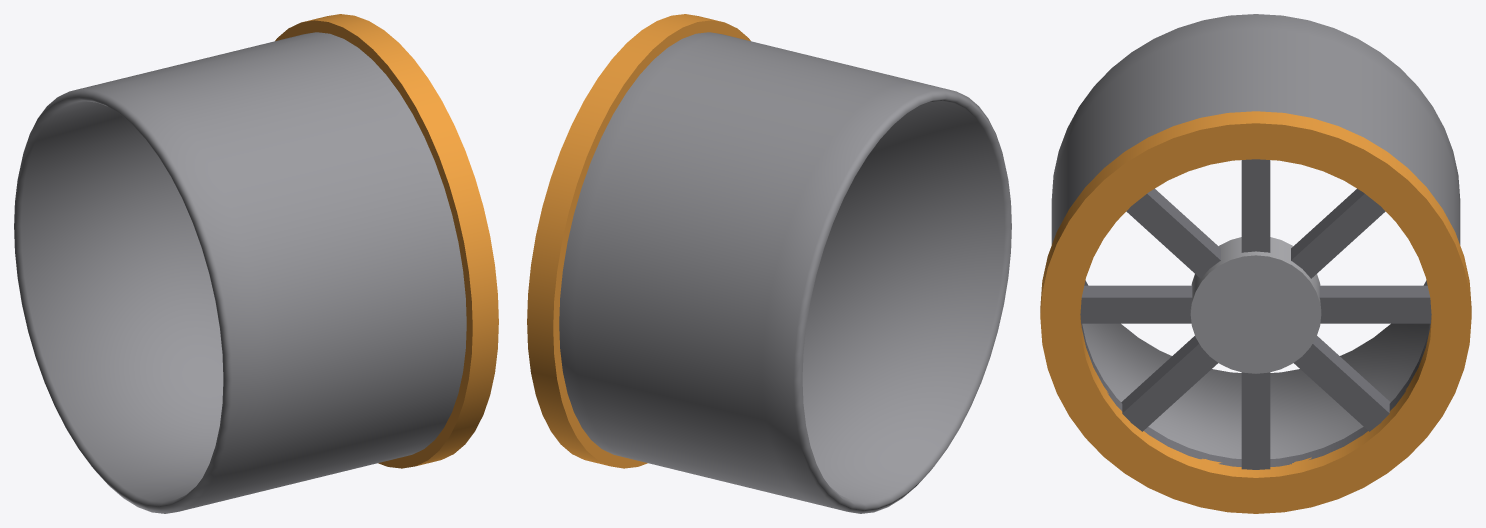
Rendered from beadlock-17.glb.
The picture shows the model from 3 angles, left to right: view 1: azimuth 30°, elevation 25°; view 2: azimuth 150°, elevation 25°; view 3: azimuth 270°, elevation 25°; orthographic projection. The views are drawn at different scales.
Visible parts, largest first — view 1: barrel, beadlock; view 2: barrel, beadlock; view 3: barrel, beadlock, spokes, hub, lip.
Boxes of the visible parts, left/top/right/bottom form: barrel: left=14, top=32, right=466, bottom=513; beadlock: left=275, top=14, right=498, bottom=468; barrel: left=559, top=32, right=1011, bottom=513; beadlock: left=527, top=14, right=750, bottom=468; barrel: left=1051, top=14, right=1460, bottom=458; beadlock: left=1040, top=111, right=1471, bottom=513; spokes: left=1080, top=159, right=1431, bottom=469; hub: left=1190, top=237, right=1321, bottom=373; lip: left=1081, top=323, right=1430, bottom=466.
Bounding box in the file's own units: 0.3048 × 0.4558 × 0.4558.
